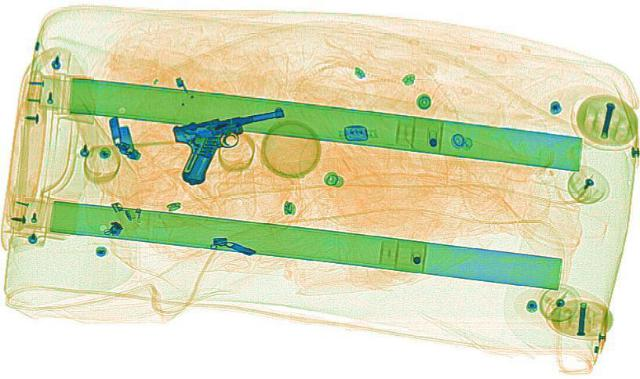Gun: (152, 105, 316, 184)
